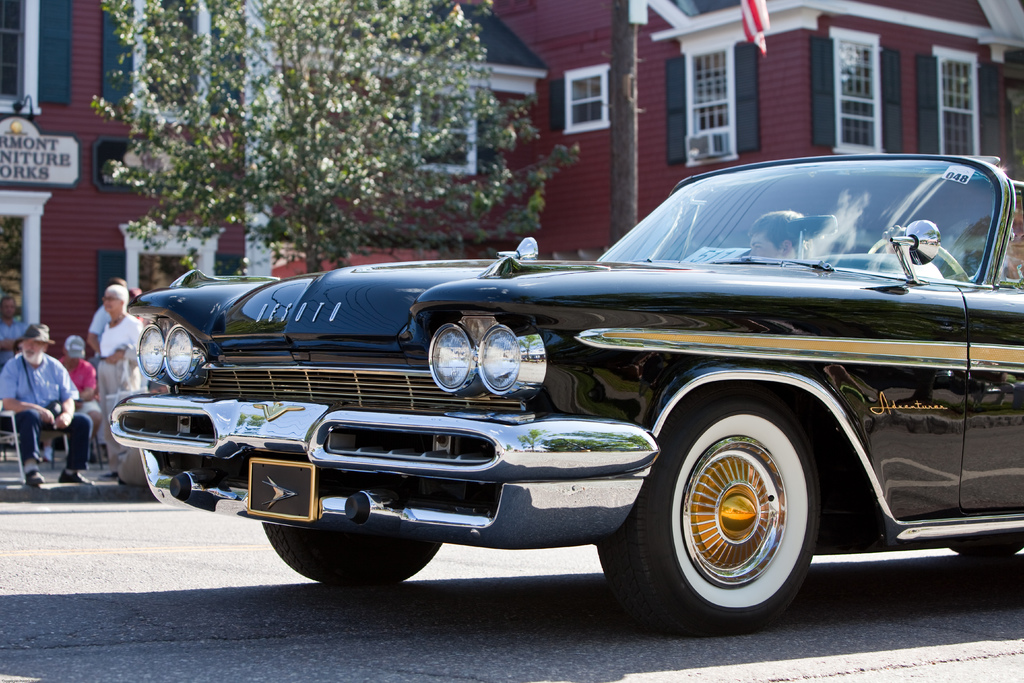Car: (65, 159, 989, 618)
